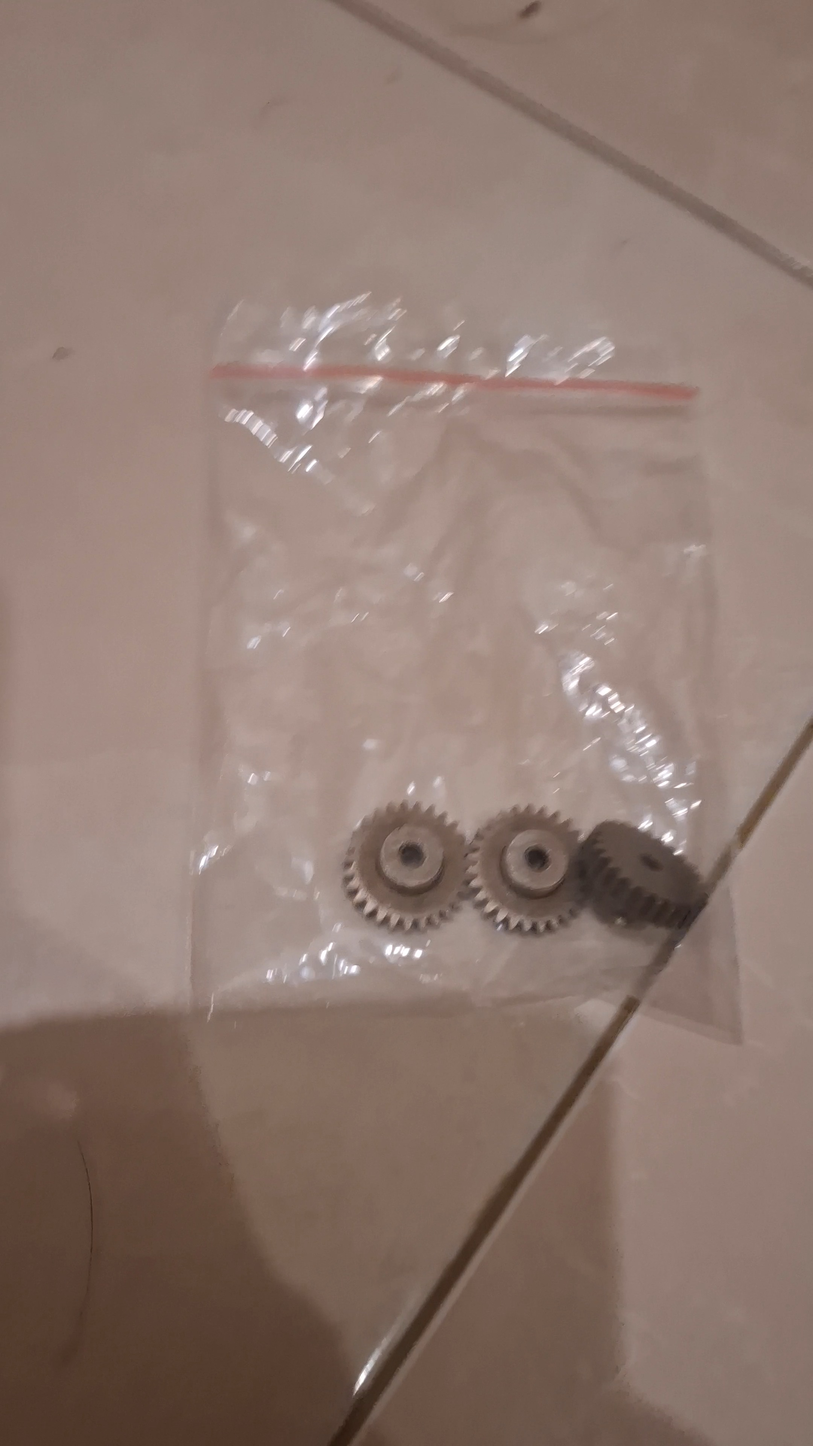spur gear: (340, 799, 473, 931), (463, 804, 591, 933), (576, 820, 706, 932)
